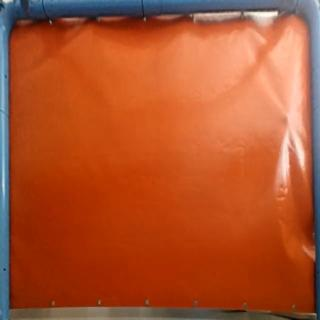Hit-hRxx: (281, 110, 293, 126)
